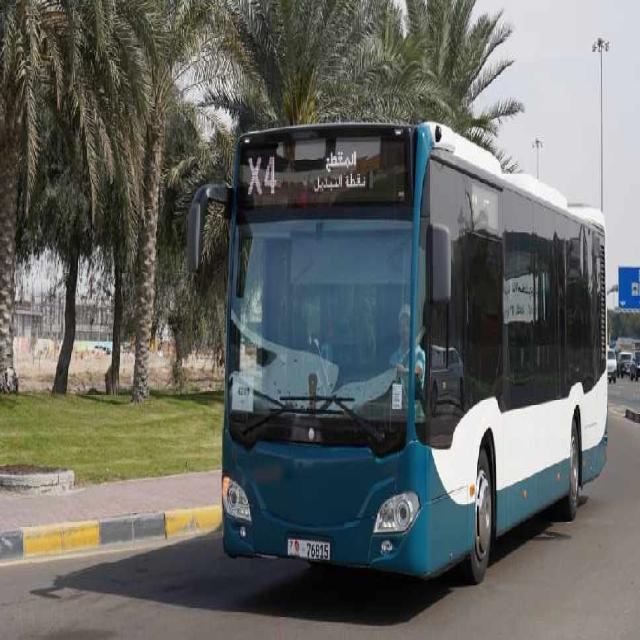bus: (184, 120, 608, 590)
